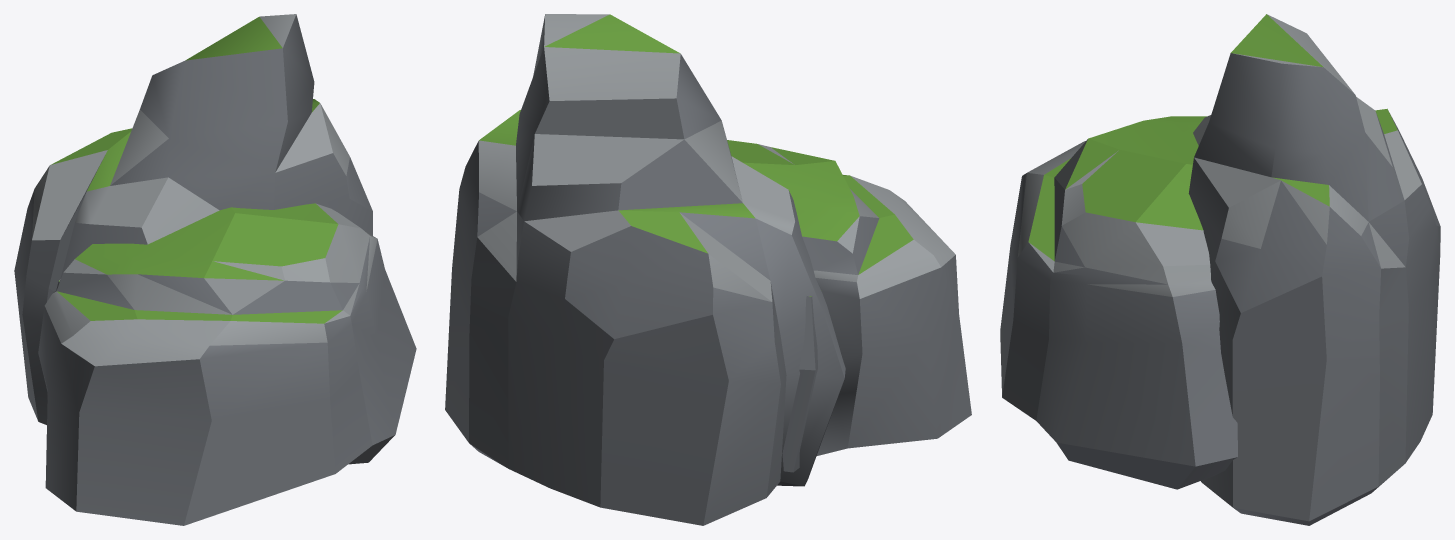
File: boulder-0.glb
3 views of the same model, side by side, from view 1: azimuth 30°, elevation 25°; view 2: azimuth 150°, elevation 25°; view 3: azimuth 270°, elevation 25° (orthographic). The views are drawn at different scales.
Parts seen in each view (by area): view 1: boulder-0; view 2: boulder-0; view 3: boulder-0.
Part boxes in pixels (bbox=[...]): boulder-0: bbox=[14, 14, 416, 525]; boulder-0: bbox=[445, 14, 971, 525]; boulder-0: bbox=[1000, 14, 1440, 525].
Size of the model in its own units: 2 by 1.92 by 1.78.
